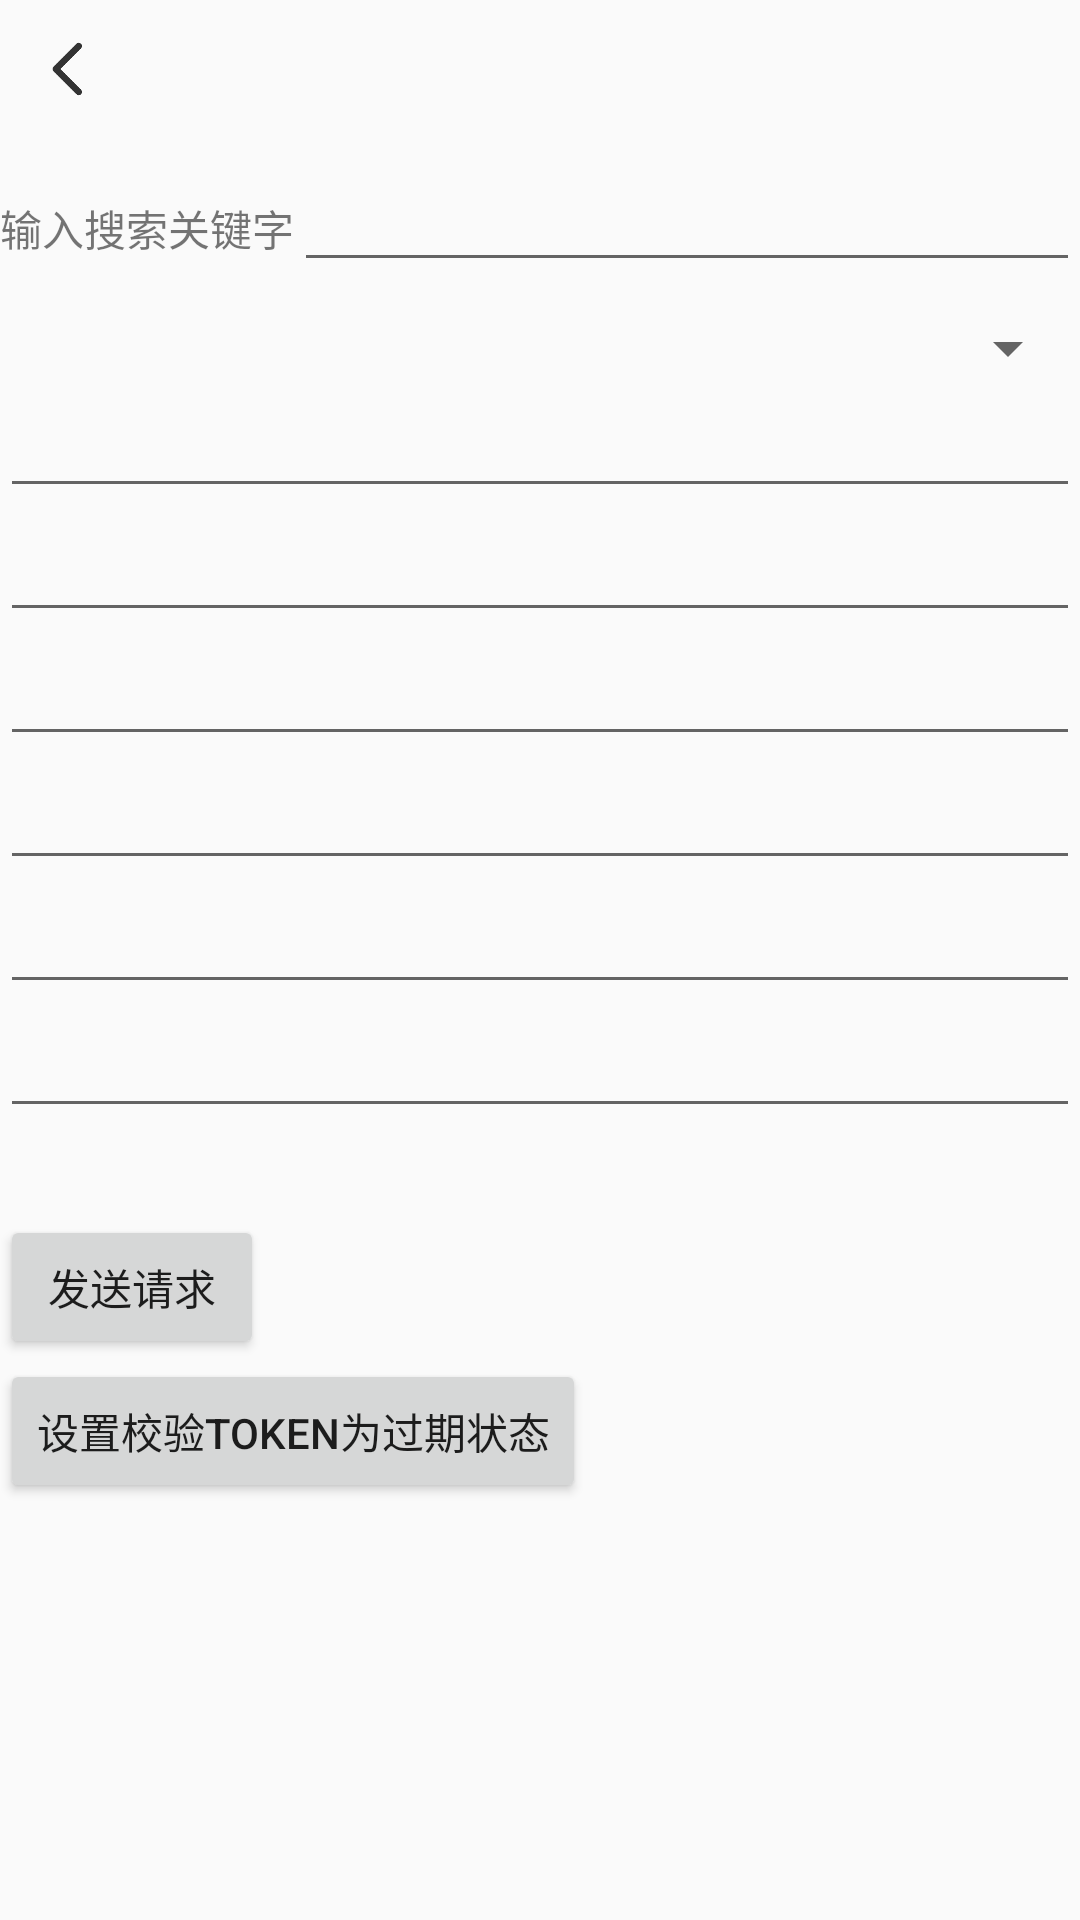

Named icons in this screenshot (1080px x 1920px) and their centers, point (x, y):
back: point (67, 69)
